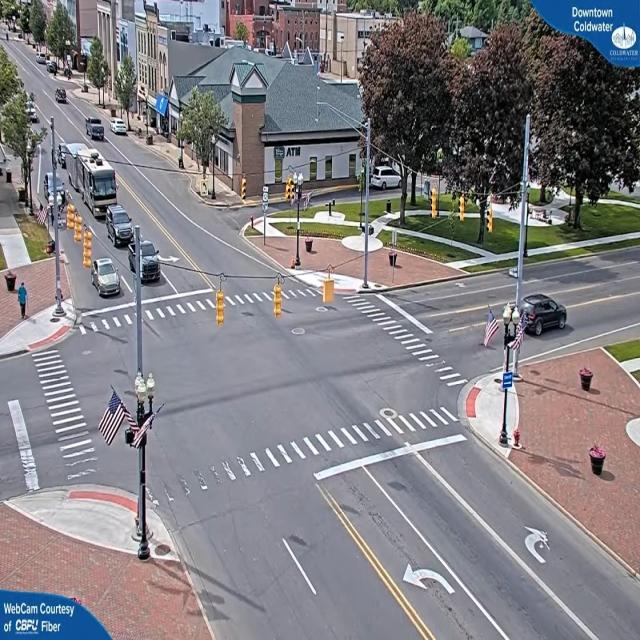car: (525, 294, 570, 336), (94, 258, 123, 298), (108, 210, 136, 247), (139, 240, 162, 284), (86, 120, 105, 142), (111, 118, 129, 136), (56, 88, 68, 105)
truck: (79, 160, 119, 217)
